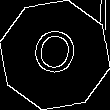O_S: (28, 25, 82, 85)
